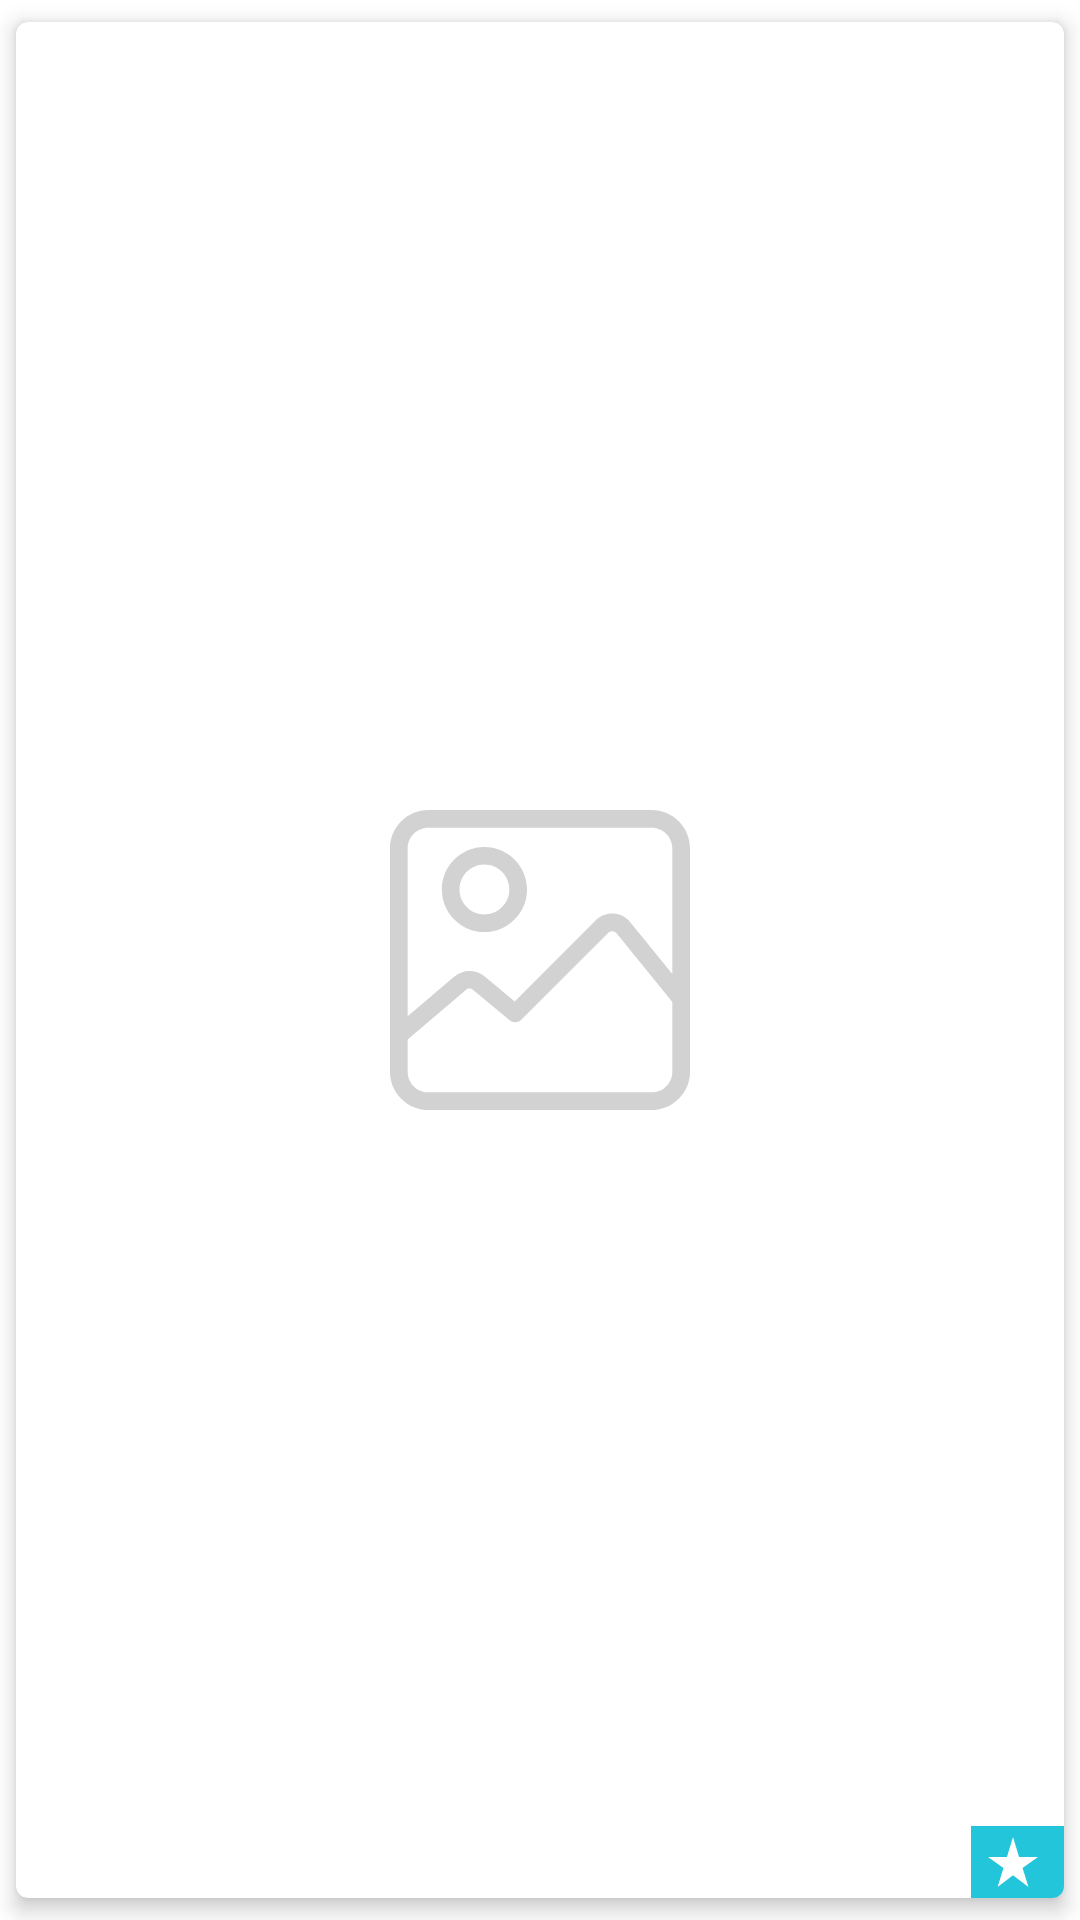

Screen size 1080w x 1920h. Icon name, then its center in pixels as (x,y):
rate: (1013,1862)
